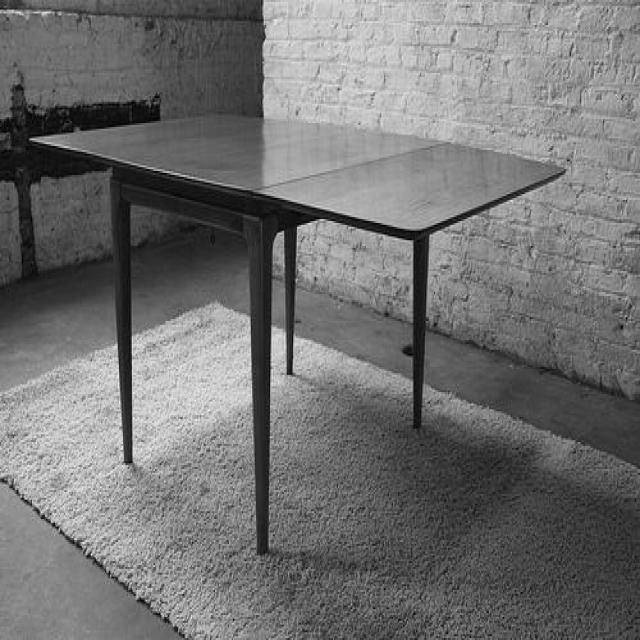table: (31, 110, 565, 554)
